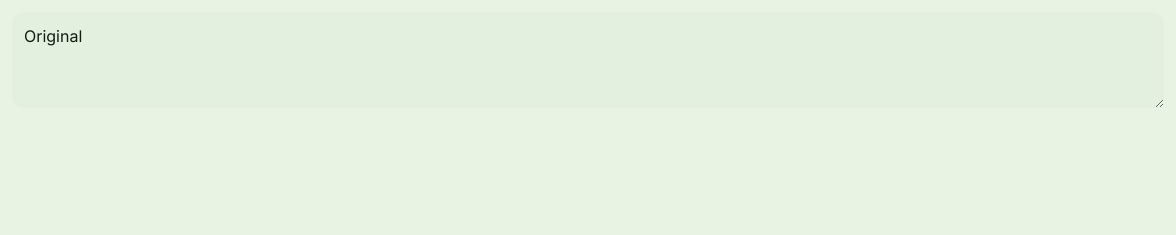
Test: dossier note preserves local text, CAS and route-exit saves › conflict preserves typed text and explicit merge uses the returned note version
The width and height of the screenshot is (1176, 235).
Later steps or results of the test are not shown.
Replace the text in the text box with "Mine": (588, 60) [12,12,1164,108]
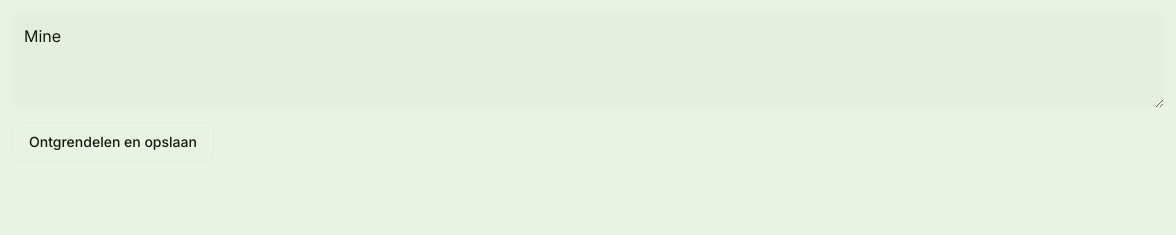
Leave the text box, box [12,12,1164,108]
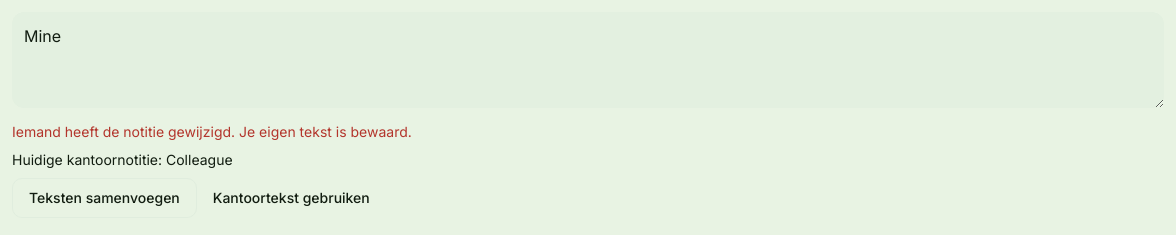
Check: the button "Teksten samenvoegen" is shown, box [12,178,197,218]
